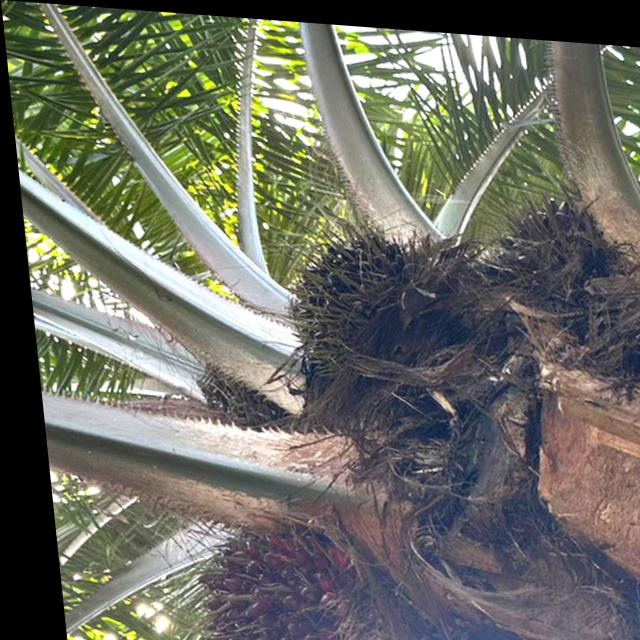unripe: (260, 207, 465, 422), (162, 497, 420, 640), (452, 179, 629, 343)
